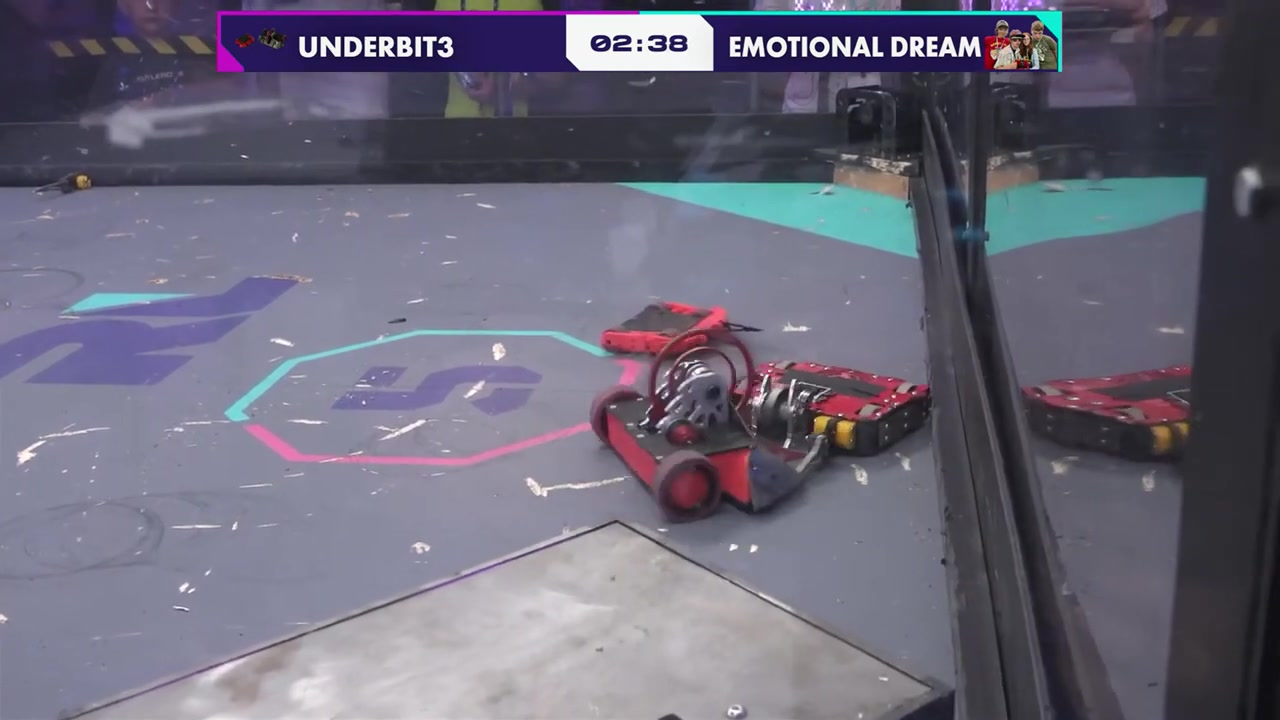combatbot: (591, 327, 802, 523), (733, 361, 935, 472)
debris: (36, 175, 93, 196)
housebot: (57, 517, 957, 719)
minibot: (601, 299, 762, 364)
